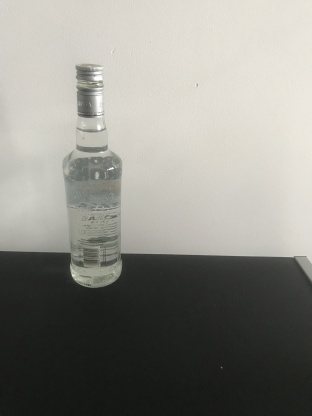nakretka: (74, 61, 105, 117)
